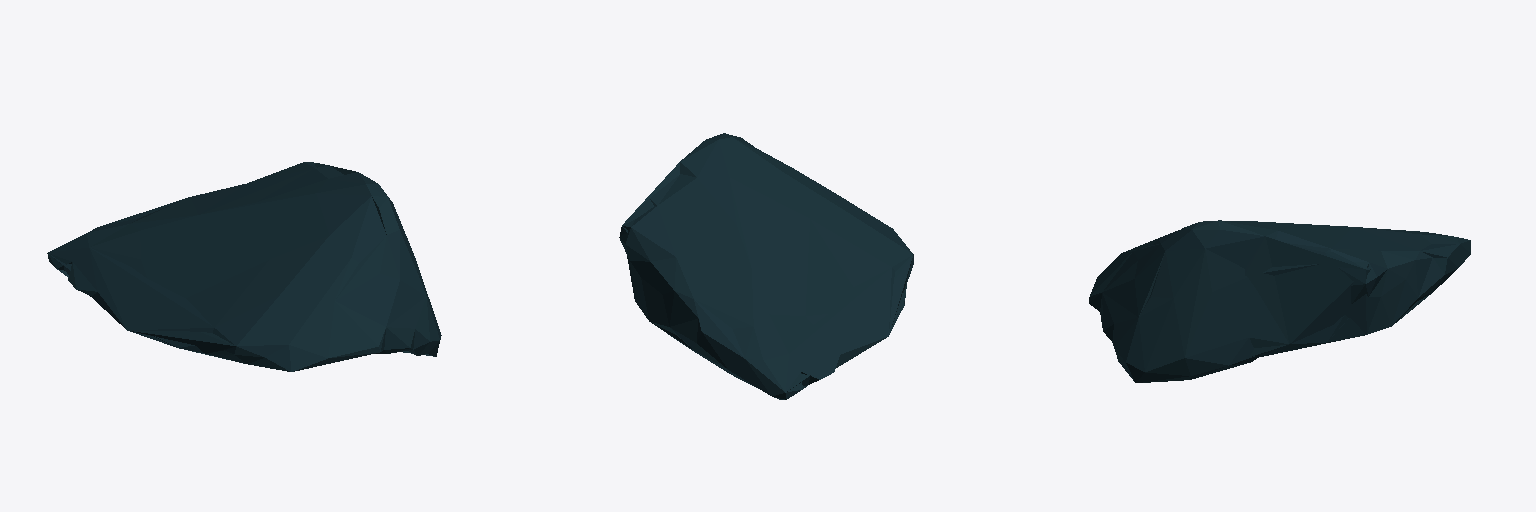
File: RockA.obj
3 views of the same model, side by side, from view 1: azimuth 30°, elevation 25°; view 2: azimuth 150°, elevation 25°; view 3: azimuth 270°, elevation 25° (orthographic).
Parts seen in each view (by area): view 1: Rock_A_LOD0 Rock_A, Rock_A Rock_A_LOD1, Rock_A Rock_A_LOD2; view 2: Rock_A_LOD0 Rock_A, Rock_A Rock_A_LOD1, Rock_A Rock_A_LOD2; view 3: Rock_A_LOD0 Rock_A, Rock_A Rock_A_LOD2, Rock_A Rock_A_LOD1.
Part boxes in pixels (x1,y1,x2,y2): Rock_A_LOD0 Rock_A: (47,162,441,371); Rock_A Rock_A_LOD1: (89,163,432,371); Rock_A Rock_A_LOD2: (49,166,434,356); Rock_A_LOD0 Rock_A: (619,133,913,399); Rock_A Rock_A_LOD1: (622,199,913,358); Rock_A Rock_A_LOD2: (625,162,912,391); Rock_A_LOD0 Rock_A: (1089,220,1470,382); Rock_A Rock_A_LOD2: (1258,237,1367,357); Rock_A Rock_A_LOD1: (1133,228,1459,356).
Bounding box in the file's own units: 5.13 × 2.93 × 6.8.